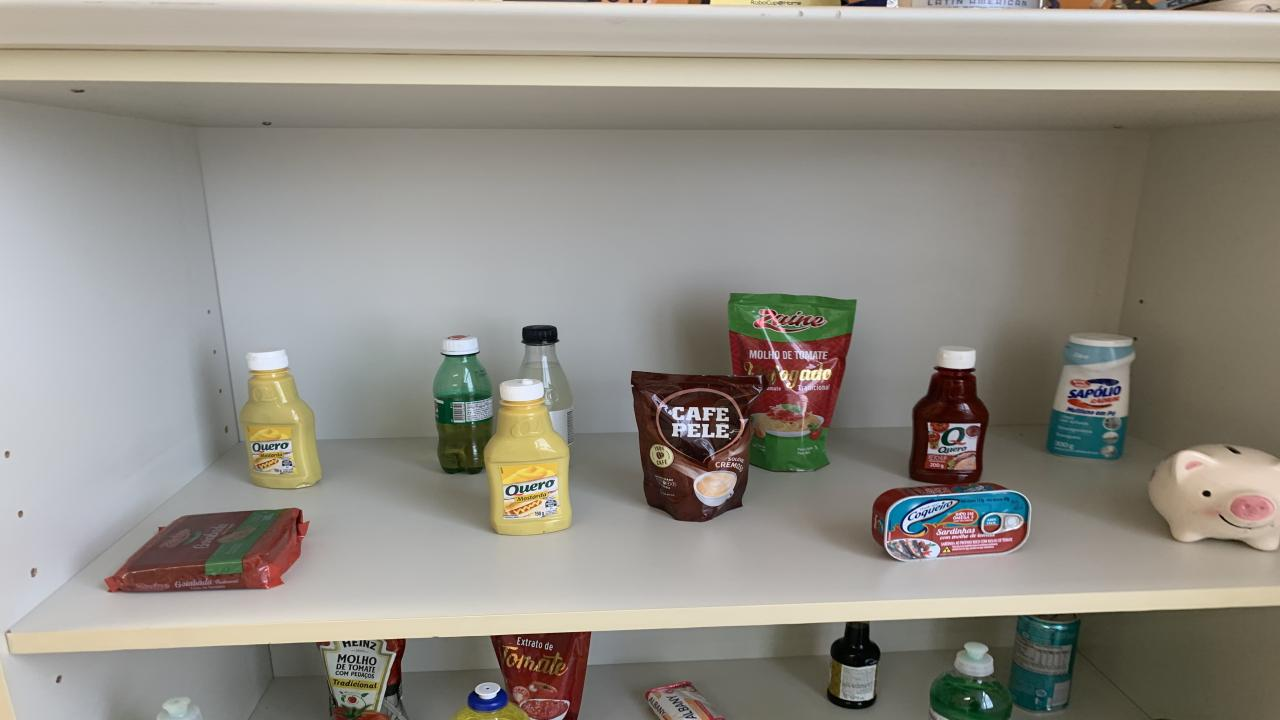Cleaner-Cleanup_Items: (1048, 332, 1135, 459)
Coffee-Pantry_Items: (630, 371, 765, 521)
Detergent-Cleanup_Items: (930, 641, 1012, 720), (452, 682, 530, 720)
English_Sauce-Pantry_Items: (828, 622, 880, 709)
Guarana-Drinks: (432, 336, 492, 474)
Guava-Snacks: (105, 508, 308, 592)
Ketchup-Pantry_Items: (910, 347, 990, 484)
Mustard-Pantry_Items: (485, 379, 572, 534), (240, 349, 322, 489)
Pig_Safe-Miscellaneous: (1150, 444, 1280, 551)
Soap-Cleanup_Items: (645, 681, 722, 720)
Soda-Drinks: (518, 324, 572, 444)
Tea-Drinks: (1010, 615, 1080, 711)
Tomato_Sauce-Pantry_Items: (728, 292, 855, 471), (492, 632, 590, 718), (318, 639, 408, 720)
Tuna_Can-Pantry_Items: (870, 484, 1030, 562)
